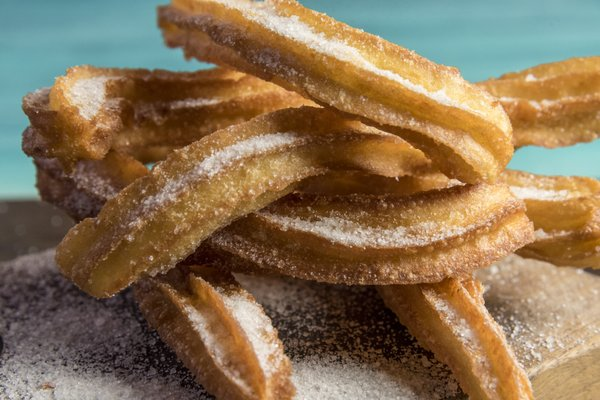soup: (23, 0, 543, 385)
